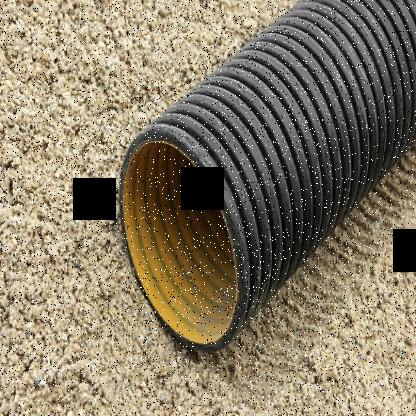pipe: (120, 129, 245, 351)
